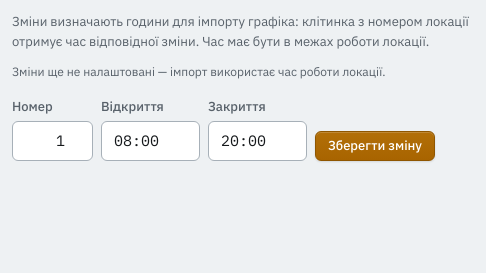
SlotEditor › refuses a malformed window rather than sending it
Replace the text in the field labelled "Відкриття" with "2500" at (150, 140), box [101, 120, 200, 160]
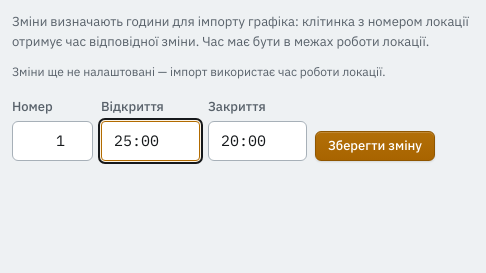
Click the button "Зберегти зміну" at (375, 146), box [315, 130, 435, 160]
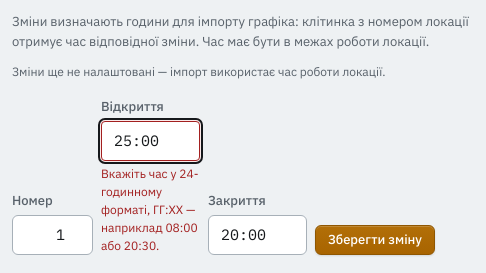
Check: the text "Вкажіть час у 24-годинному форматі, ГГ:ХХ — наприклад 08:00 або 20:30." is shown, box [101, 164, 200, 254]
